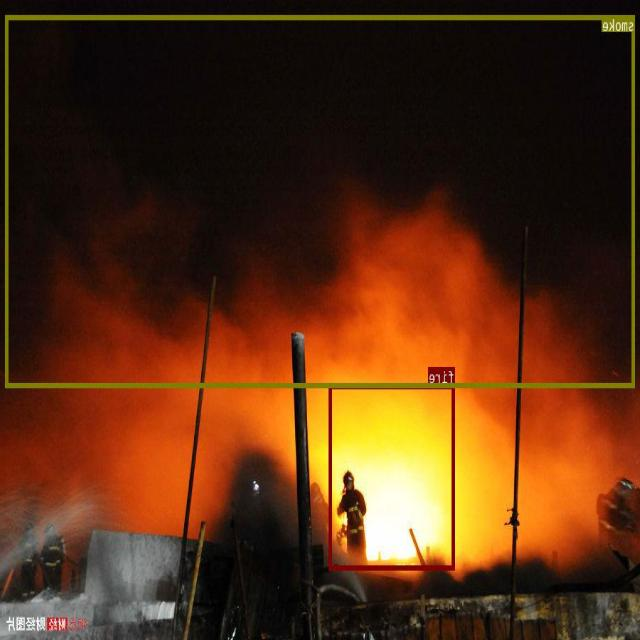fire: (330, 383, 455, 569)
smoke: (6, 15, 636, 386)
